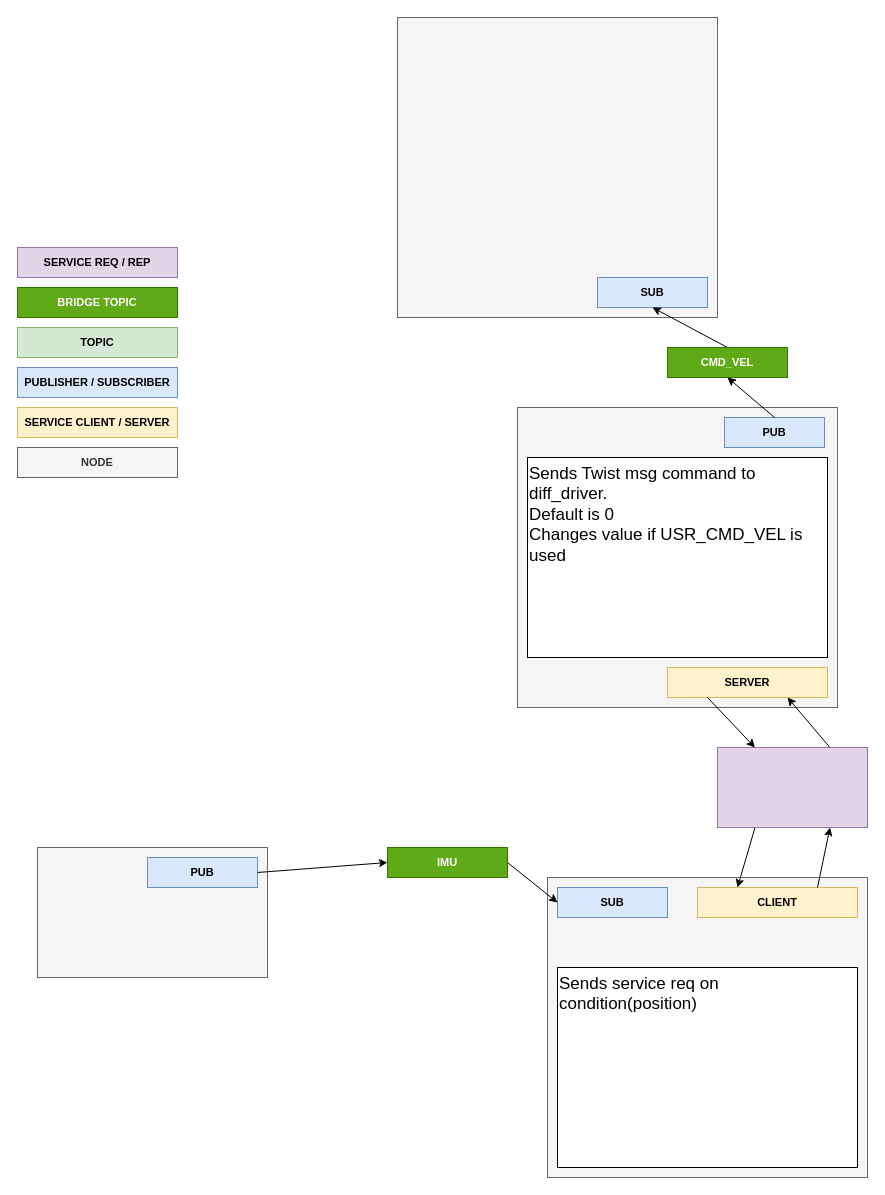
The diagram is 885 pixels wide and 1195 high, and some of its shapes have lost their labels. Each missing label, with the box of its shape:
ROBOT: (396, 16, 718, 318)
SENSOR: (36, 846, 268, 978)
srv_cmd_vel: (716, 746, 868, 828)
